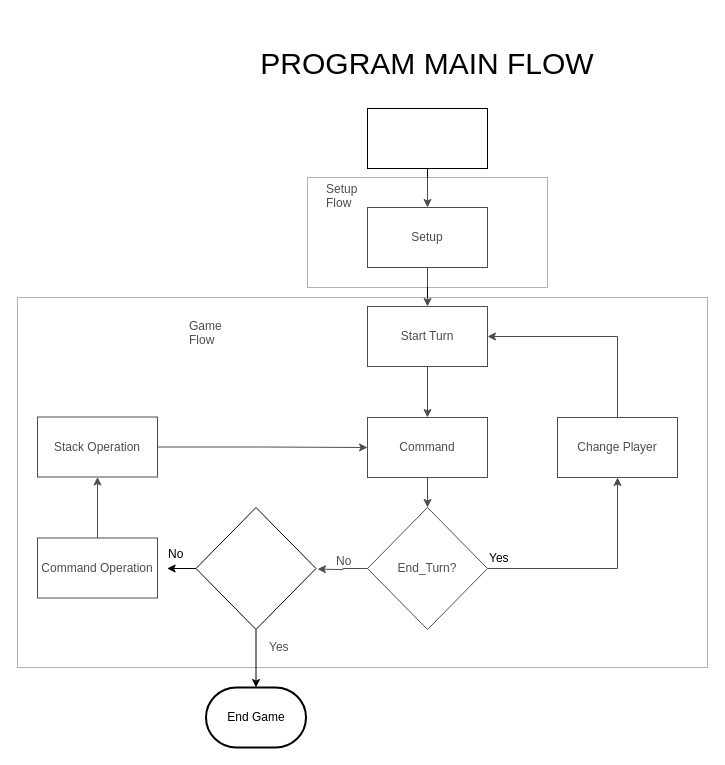
Image size: 725x765. Some labels were removed from this diagram. The shapes that lost their labels are listed below. From the top down, each one's centre as x and y in pixels, then its label:
At [427,138]: "Start Game".
At [255,568]: "Exit?".
